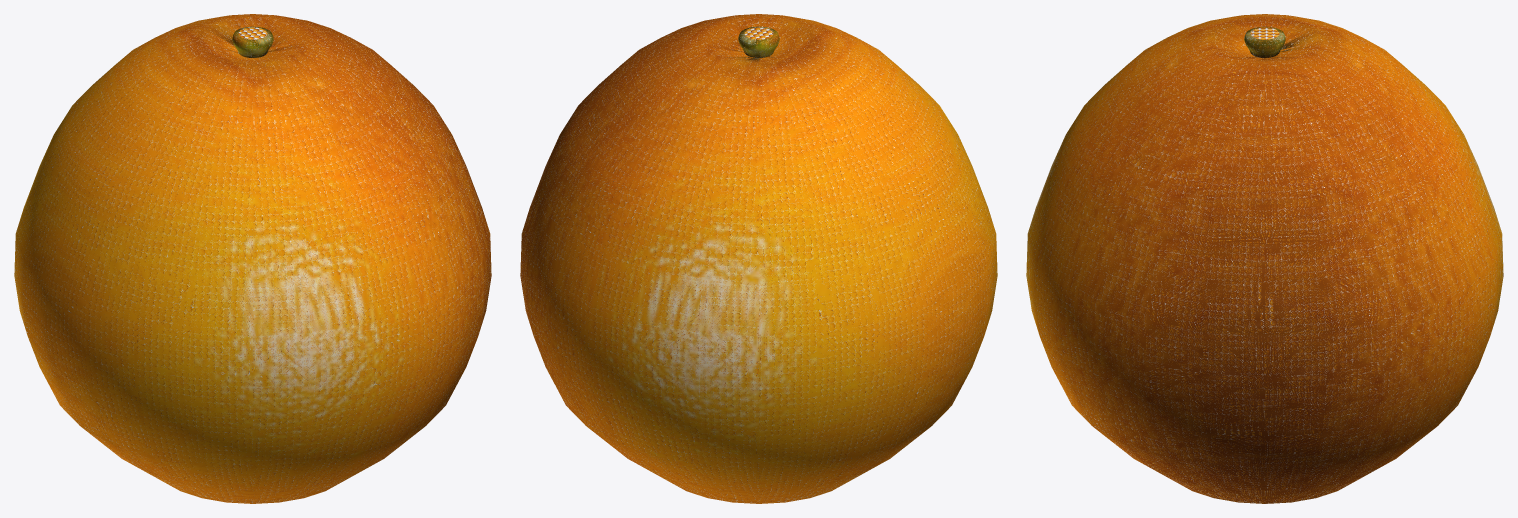
The model's file is orange.dae.
3 views of the same model, side by side, from view 1: azimuth 30°, elevation 25°; view 2: azimuth 150°, elevation 25°; view 3: azimuth 270°, elevation 25° (orthographic).
Parts seen in each view (by area): view 1: SketchUp; view 2: SketchUp; view 3: SketchUp.
Part boxes in pixels (x1,y1,x2,y2): SketchUp: (14,14,491,503); SketchUp: (520,14,997,503); SketchUp: (1026,14,1503,503).
Bounding box in the file's own units: 69.29 × 69.29 × 71.25.
1 material, 1 textured.
